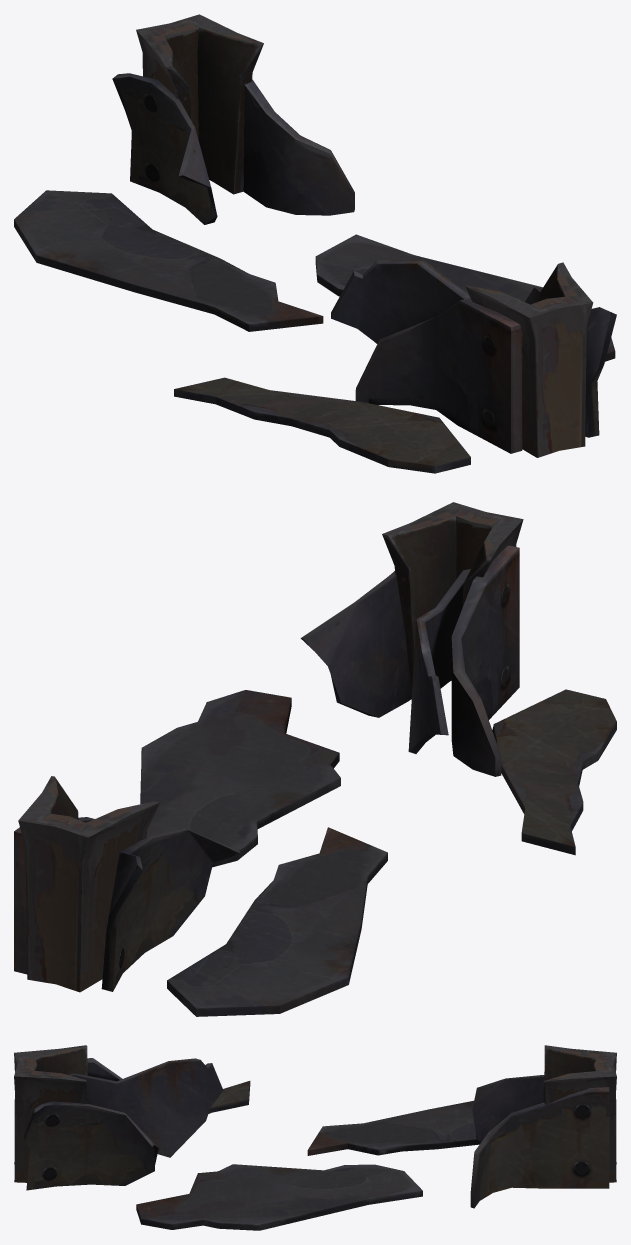
The model's file is Ruin03.FBX.
3 views of the same model, one above another, from view 1: azimuth 30°, elevation 25°; view 2: azimuth 150°, elevation 25°; view 3: azimuth 270°, elevation 25° (orthographic). The views are drawn at different scales.
Parts seen in each view (by area): view 1: Ruin03; view 2: Ruin03; view 3: Ruin03.
Boxes of the visible parts, x1,y1,x2,y2 form: Ruin03: (14,14,616,473); Ruin03: (14,502,616,1016); Ruin03: (14,1045,616,1230).
Size of the model in its own units: 1.14 by 0.4046 by 2.
Materials: 1 (1 with a texture image).
